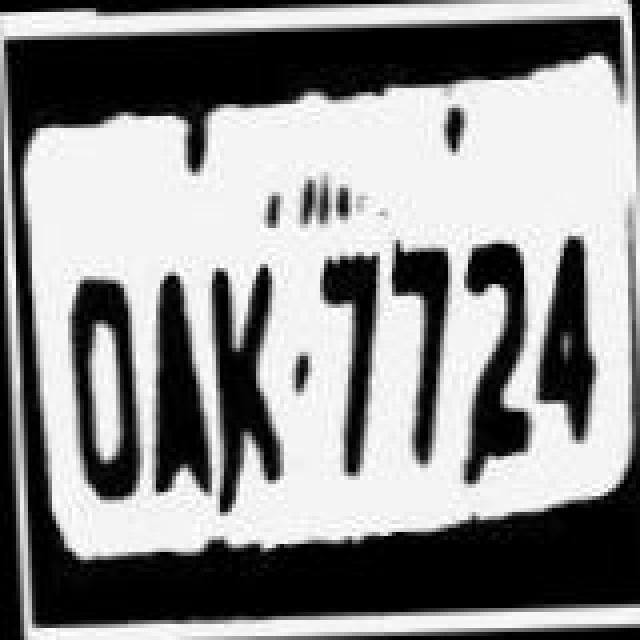2: (452, 234, 536, 458)
4: (524, 226, 604, 446)
7: (306, 242, 394, 486), (386, 236, 466, 476)
A: (136, 254, 212, 510)
K: (198, 250, 294, 506)
O: (54, 266, 150, 526)
